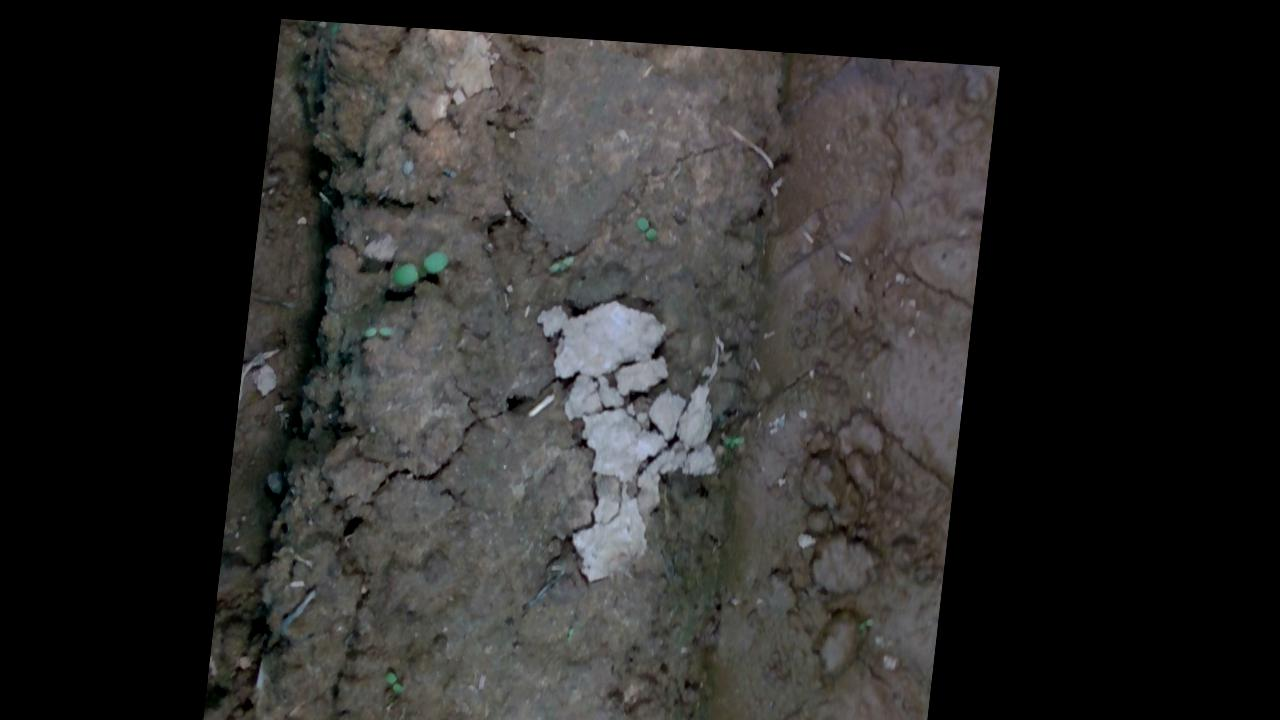weed: (635, 205, 669, 236), (370, 312, 409, 336), (392, 665, 427, 684)
